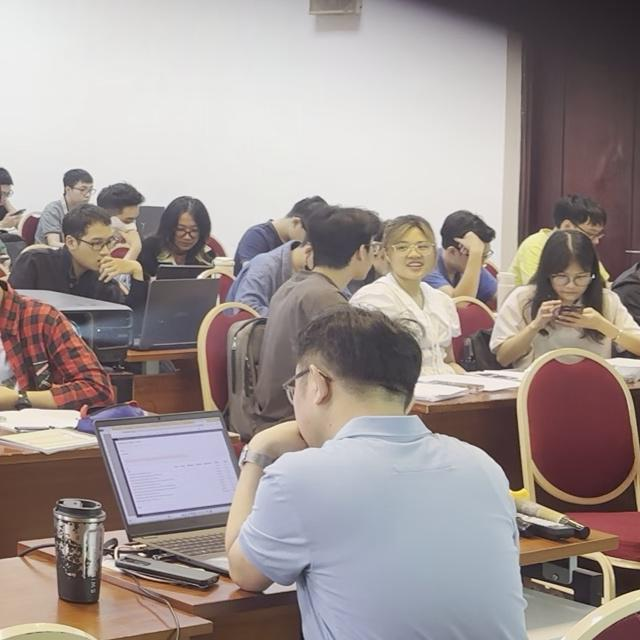Looking away: (312, 201, 392, 288), (43, 206, 123, 280), (442, 204, 503, 297), (391, 209, 443, 277), (164, 196, 211, 268), (57, 143, 105, 212), (543, 201, 605, 253), (111, 176, 148, 226)
Phone use: (509, 235, 633, 359), (0, 136, 10, 228)
